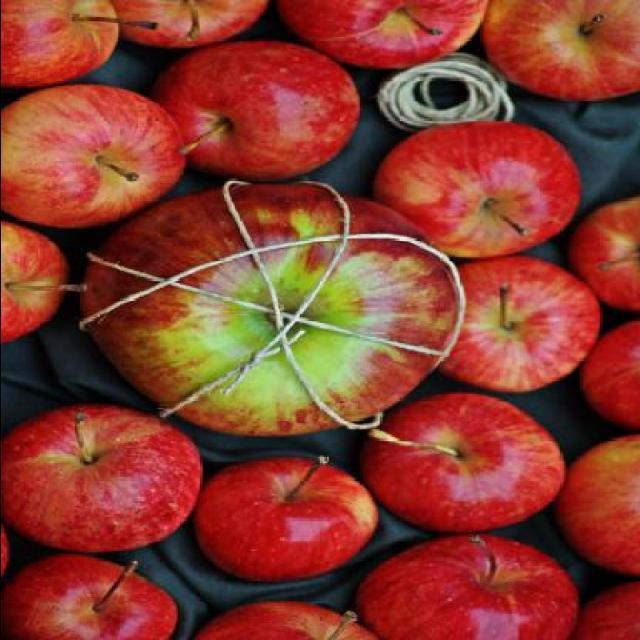Apple pie: (2, 0, 640, 638), (1, 404, 205, 553)
